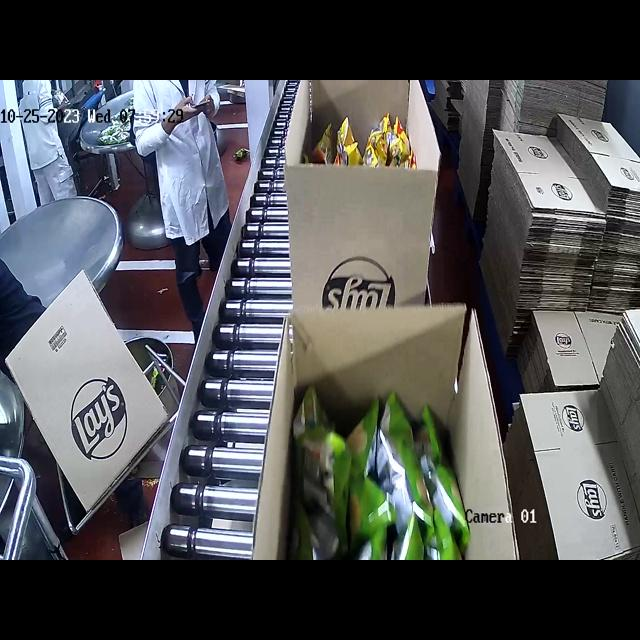salted: (303, 111, 438, 162)
yogurt: (307, 362, 454, 560)
